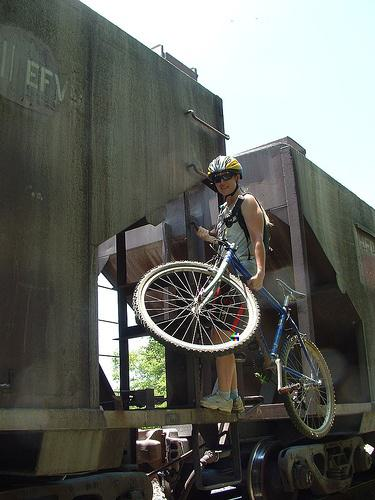car: (131, 226, 340, 448)
person: (192, 154, 256, 422)
person/foot: (201, 393, 234, 413), (233, 396, 244, 411)
person/hand: (248, 275, 266, 292), (196, 228, 212, 243)
person/head: (215, 158, 239, 195)
train: (1, 1, 374, 500)
